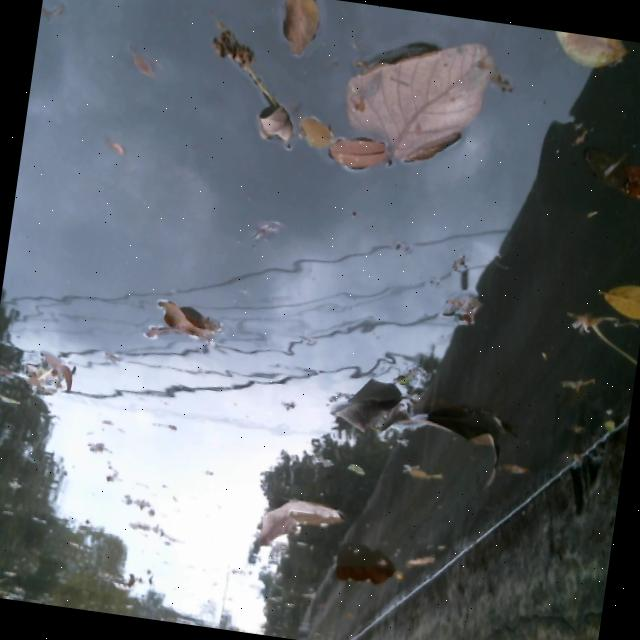Big-leaf: (401, 394, 526, 481), (310, 367, 413, 457), (251, 477, 360, 558), (327, 548, 401, 598), (432, 288, 487, 351)
Small-leaf: (559, 300, 640, 385), (198, 34, 286, 108), (568, 140, 640, 218), (1, 340, 82, 408), (539, 29, 624, 88), (154, 291, 229, 353), (274, 0, 328, 61), (329, 130, 392, 179), (119, 544, 165, 598), (290, 108, 338, 153), (598, 279, 640, 329), (253, 97, 297, 143), (400, 539, 437, 583), (404, 457, 445, 492), (501, 451, 533, 486)
